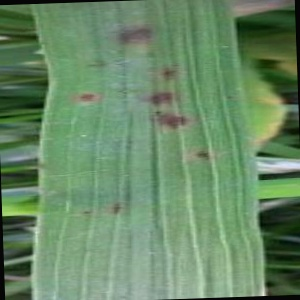Bacterial_Leaf_Blight: (101, 19, 158, 51), (144, 104, 192, 135), (135, 86, 178, 111), (154, 62, 186, 86), (188, 143, 215, 166), (74, 87, 101, 109), (106, 198, 127, 219), (79, 205, 94, 219)
